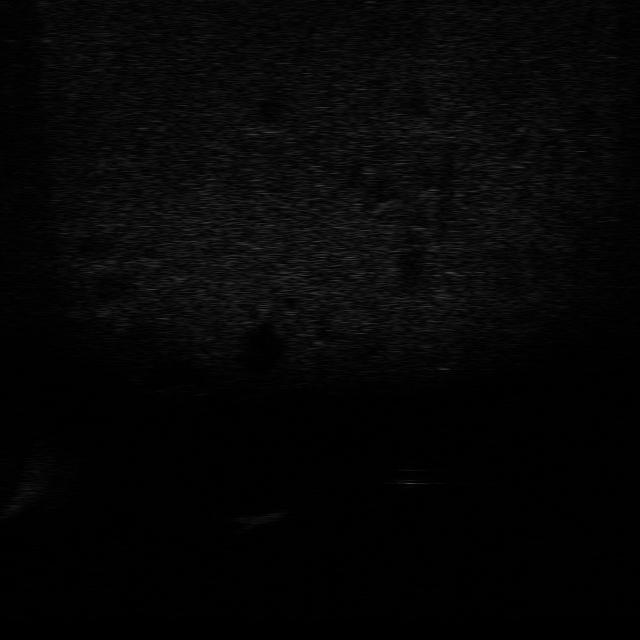ball: (384, 462, 440, 494)
square cage: (229, 506, 291, 536)
tyre: (418, 352, 463, 380)
